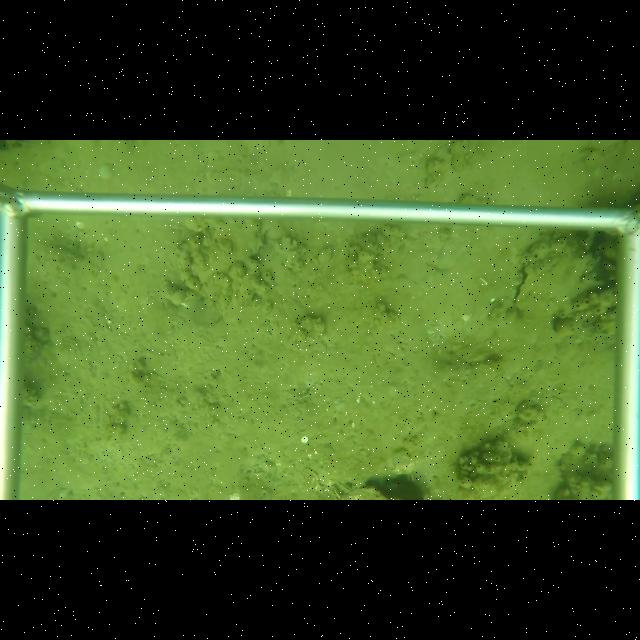Oyster-Closed: (518, 236, 602, 322)
